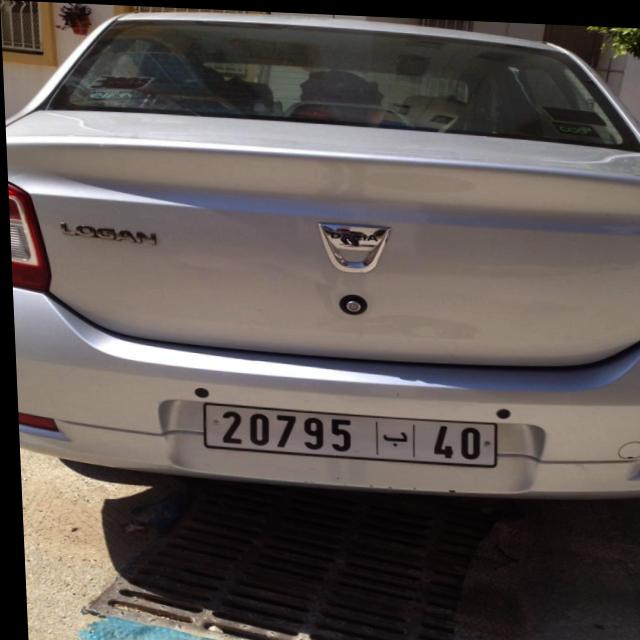License-Plate: (200, 402, 493, 462)
